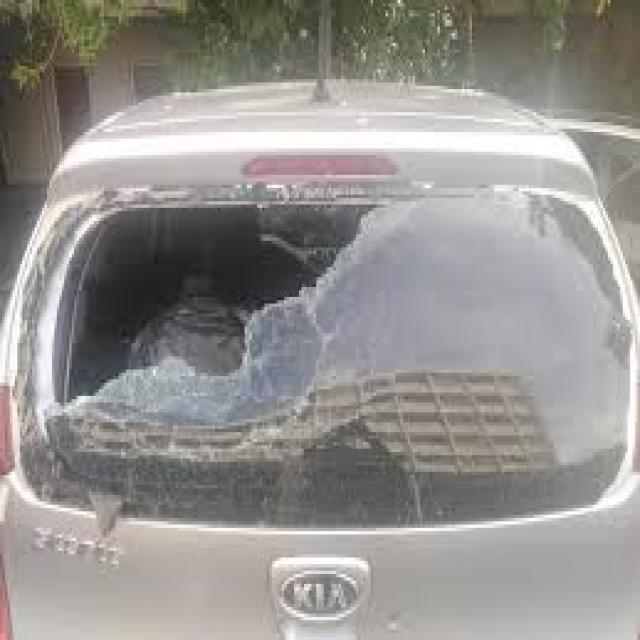damaged-rear-window: (26, 190, 635, 526)
